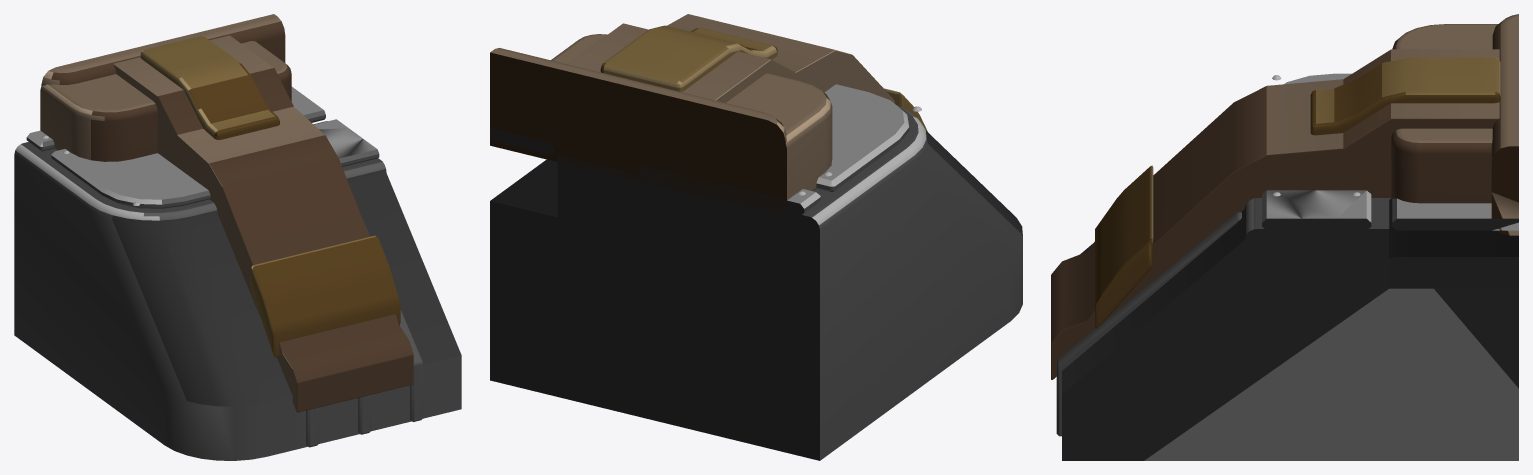
File: bronze_pump_bl.glb
3 renders of one model, left to right at view 1: azimuth 30°, elevation 25°; view 2: azimuth 150°, elevation 25°; view 3: azimuth 270°, elevation 25°, orthographic. The views are drawn at different scales.
Visible parts, largest first — view 1: bronze_pump_bl; view 2: bronze_pump_bl; view 3: bronze_pump_bl.
Part boxes in pixels (<box>): bronze_pump_bl: <box>14,14,461,460</box>; bronze_pump_bl: <box>490,14,1022,460</box>; bronze_pump_bl: <box>1051,14,1518,460</box>.
Size of the model in its own units: 20 by 19.35 by 25.6.
